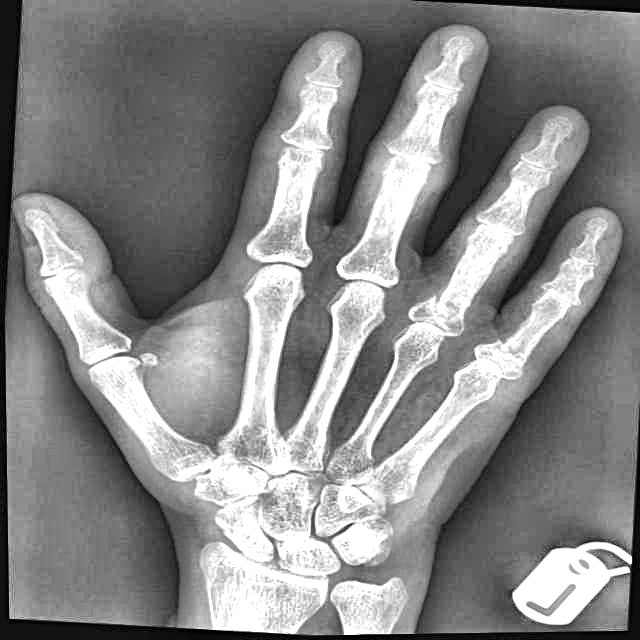Healthy: (13, 14, 594, 600)
